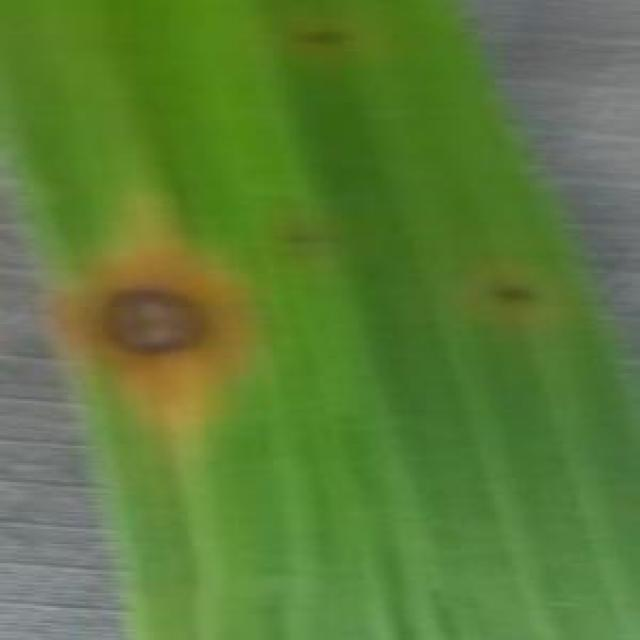brownspots: (90, 272, 208, 358), (471, 268, 542, 308), (294, 20, 356, 54)
